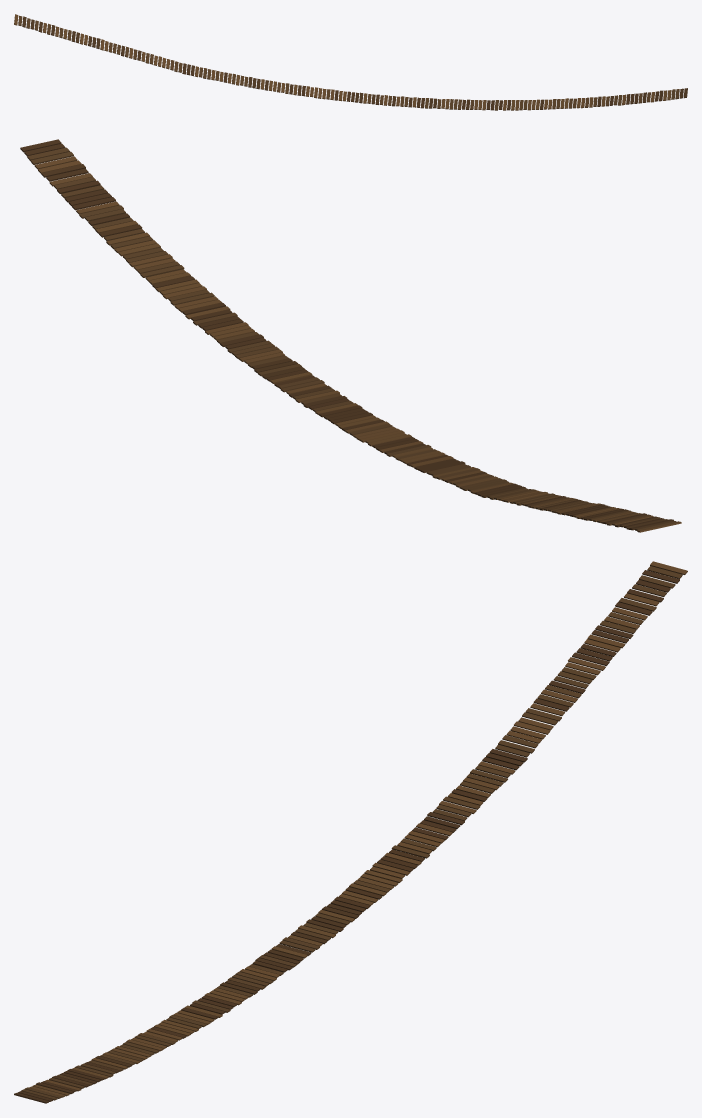
Rendered from SM_Bridge_10_11.fbx.
3 views of the same model, one above another, from view 1: azimuth 30°, elevation 25°; view 2: azimuth 150°, elevation 25°; view 3: azimuth 270°, elevation 25° (orthographic). The views are drawn at different scales.
Visible parts, largest first — view 1: SM_Bridge_10_11; view 2: SM_Bridge_10_11; view 3: SM_Bridge_10_11.
Boxes of the visible parts, bbox=[...] form: SM_Bridge_10_11: bbox=[14, 14, 687, 110]; SM_Bridge_10_11: bbox=[20, 139, 681, 532]; SM_Bridge_10_11: bbox=[14, 561, 687, 1103].
Size of the model in its own units: 59.19 by 8.76 by 38.89.
